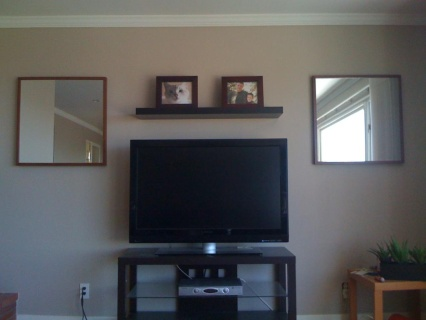Cat: (160, 82, 194, 105)
